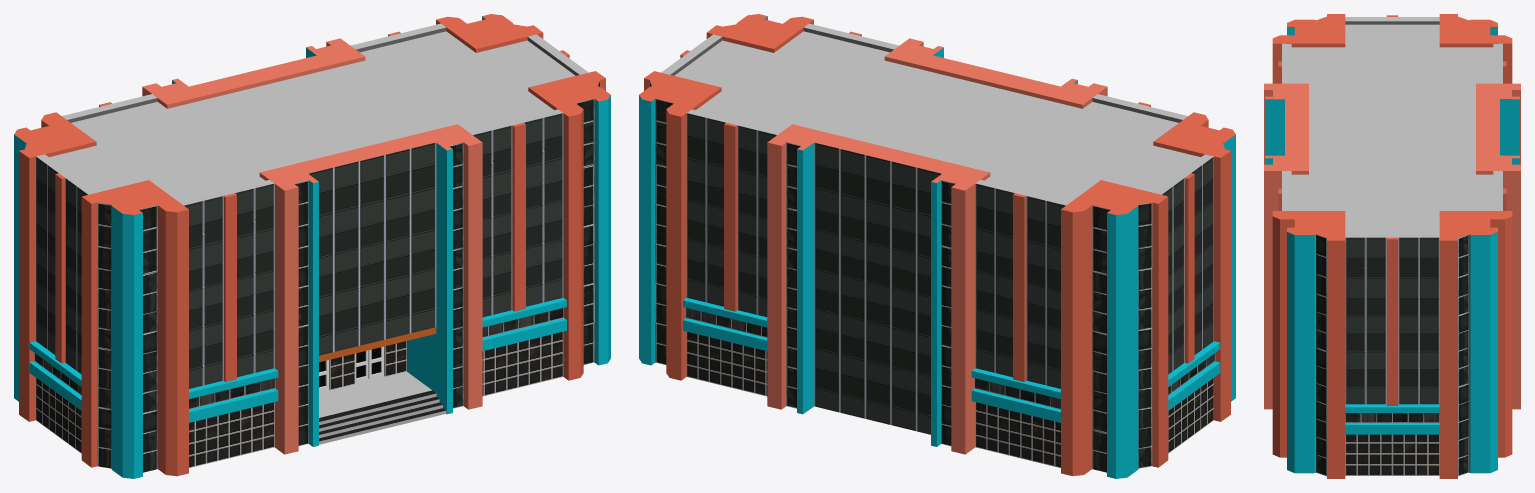
The picture shows the model from 3 angles, left to right: view 1: azimuth 30°, elevation 25°; view 2: azimuth 150°, elevation 25°; view 3: azimuth 270°, elevation 25°; orthographic projection. The views are drawn at different scales.
Parts seen in each view (by area): view 1: Building; view 2: Building; view 3: Building.
Part boxes in pixels (box(x1,y1,x2,y2)): Building: box(14, 14, 610, 478); Building: box(639, 14, 1235, 478); Building: box(1264, 14, 1520, 478).
Size of what is drawn, in the model's own units: 40.83 by 20 by 19.55.
